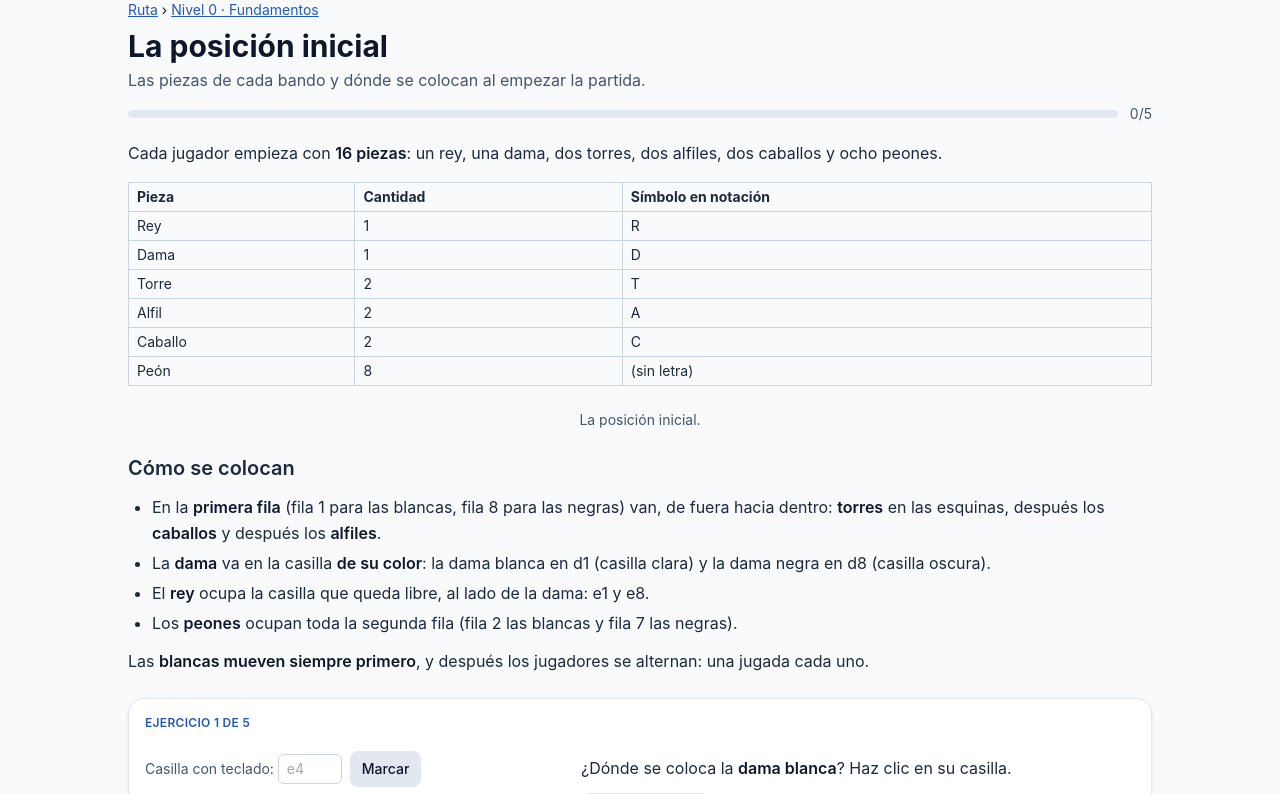
LessonPage › muestra la teoría hasta el primer ejercicio y avanza al resolverlo
Expected: the heading "La posición inicial" is shown, [128,28,388,64]
Expected: the text "Ejercicio 1 de 5" is shown, [145,715,250,730]
Note: Responde con el teclado: la dama blanca va a d1
Type "e1" into the field with placeholder "e4". click: (310, 769)
box: [278,754,342,784]
Then press Enter
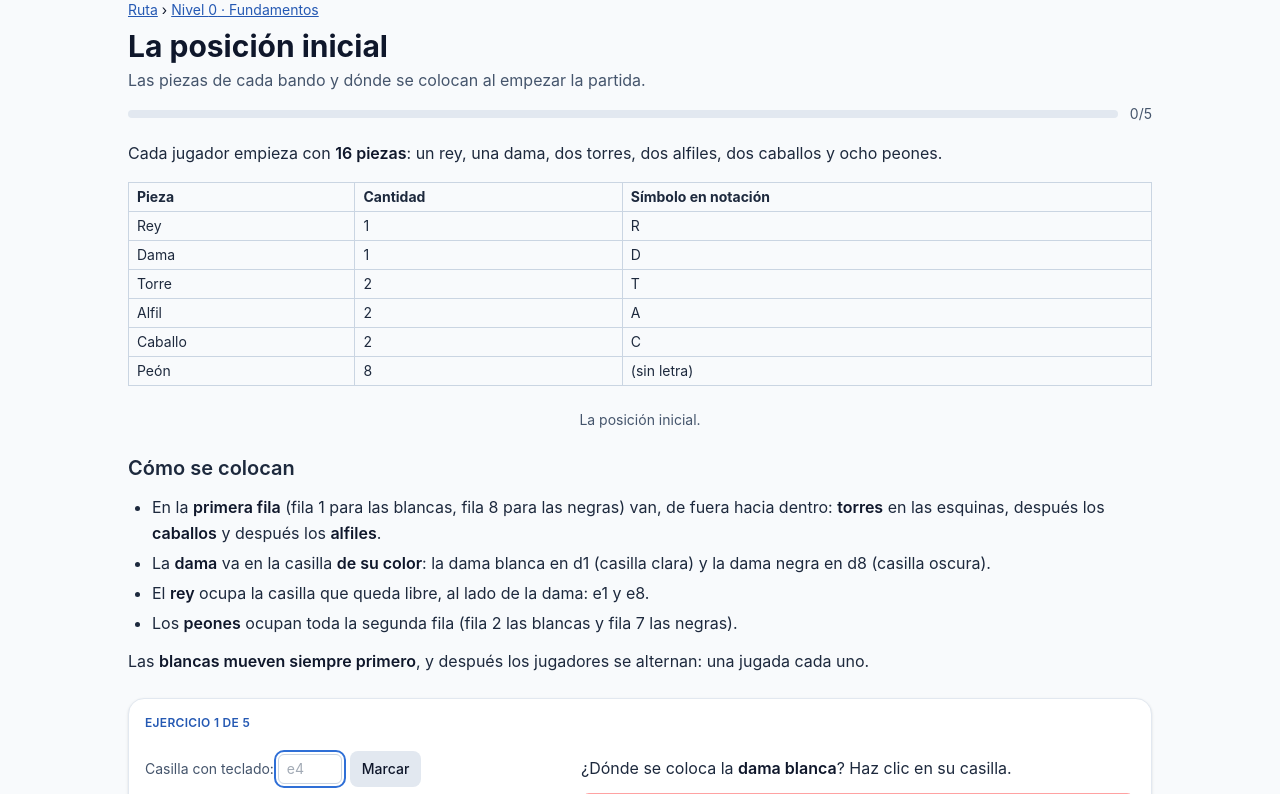
Type "d1" into the field with placeholder "e4". click: (310, 769)
box: [278,754,342,784]
Then press Enter
(page scrolled)
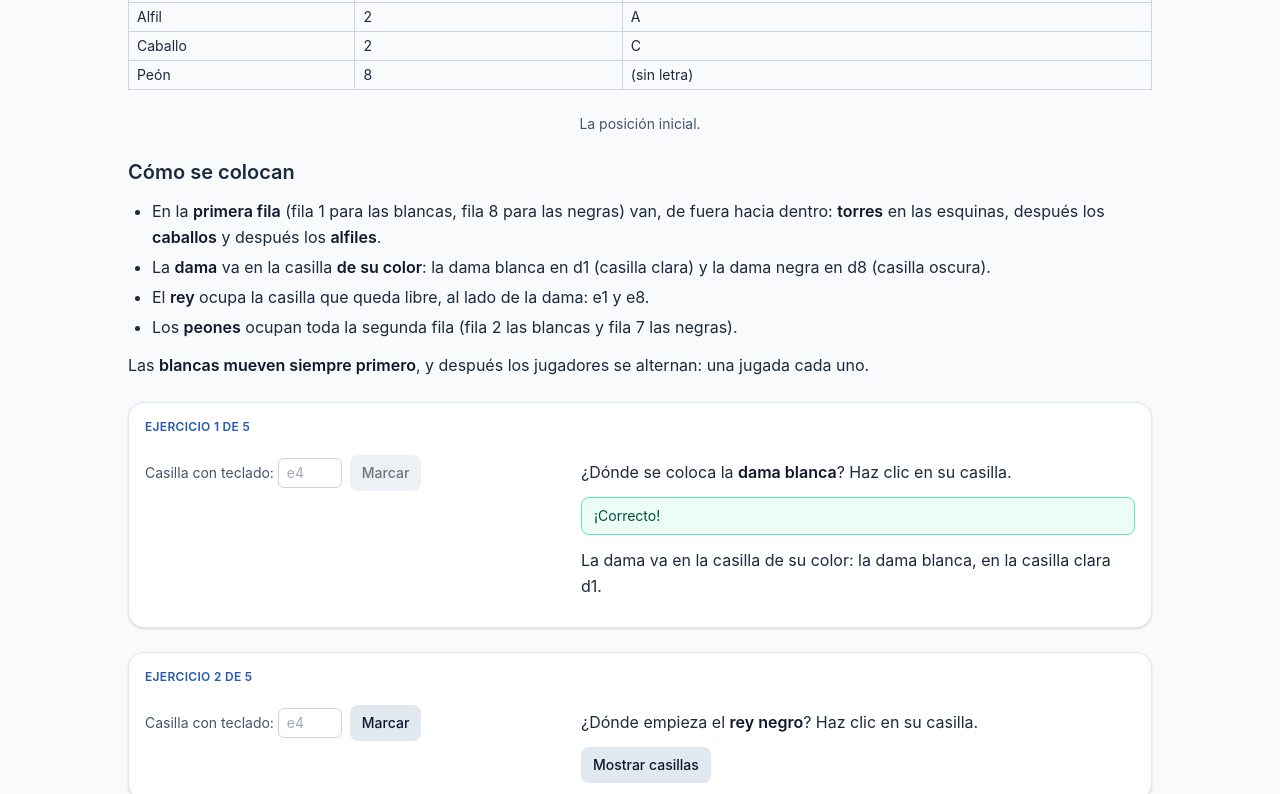
Now the text "Ejercicio 2 de 5" is shown, box [145,669,252,684]
